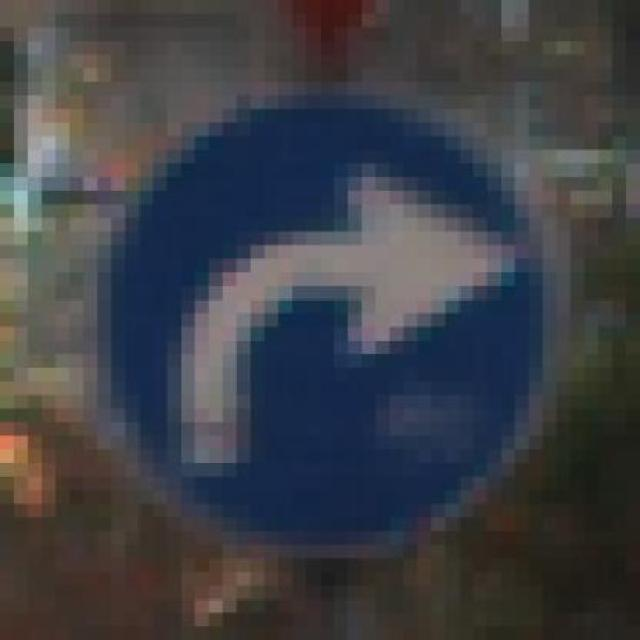Turn right ahead: (80, 77, 568, 568)
